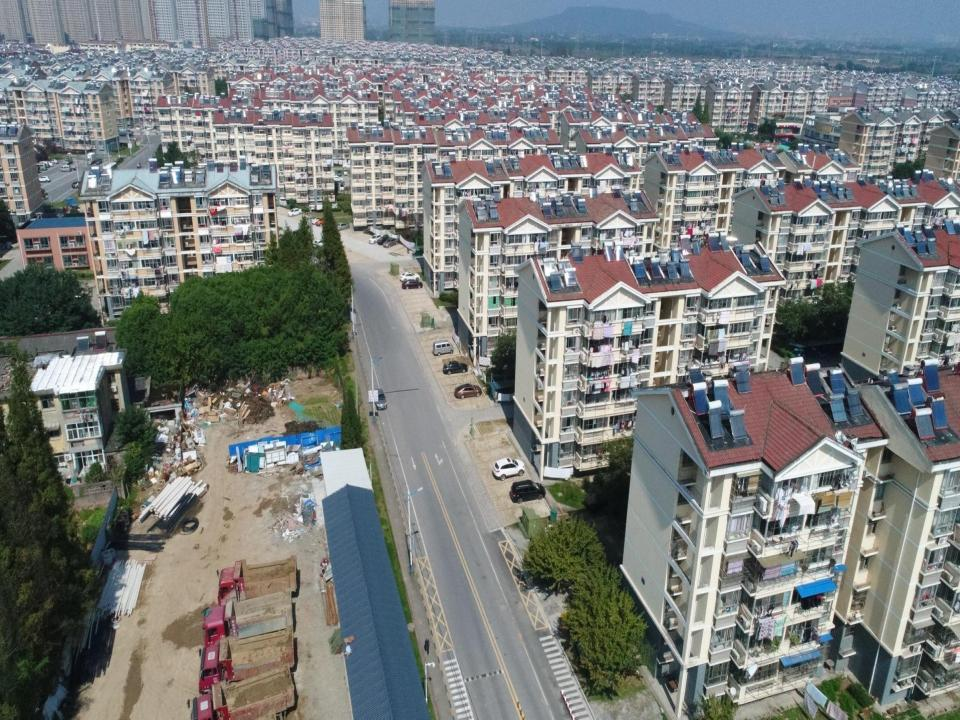car: (198, 630, 295, 690), (201, 589, 294, 643), (187, 666, 296, 704), (217, 555, 296, 607), (510, 481, 546, 503), (493, 457, 525, 479), (453, 383, 481, 399), (443, 361, 468, 374), (374, 388, 386, 409), (400, 270, 421, 282), (403, 280, 423, 288), (384, 237, 399, 247), (370, 234, 382, 245), (37, 175, 51, 183), (288, 208, 301, 216), (337, 222, 349, 230), (379, 234, 388, 244), (50, 156, 59, 165), (71, 181, 80, 189), (311, 216, 321, 223), (317, 219, 327, 226), (95, 158, 104, 165), (64, 158, 72, 165), (340, 182, 346, 191), (334, 176, 344, 181), (147, 126, 155, 132), (136, 125, 144, 131), (344, 169, 349, 178), (48, 162, 54, 167), (337, 170, 341, 176)
truck: (84, 152, 96, 164), (65, 198, 79, 207)
van: (433, 339, 453, 356), (59, 165, 72, 173), (36, 164, 46, 171), (40, 160, 50, 167)
